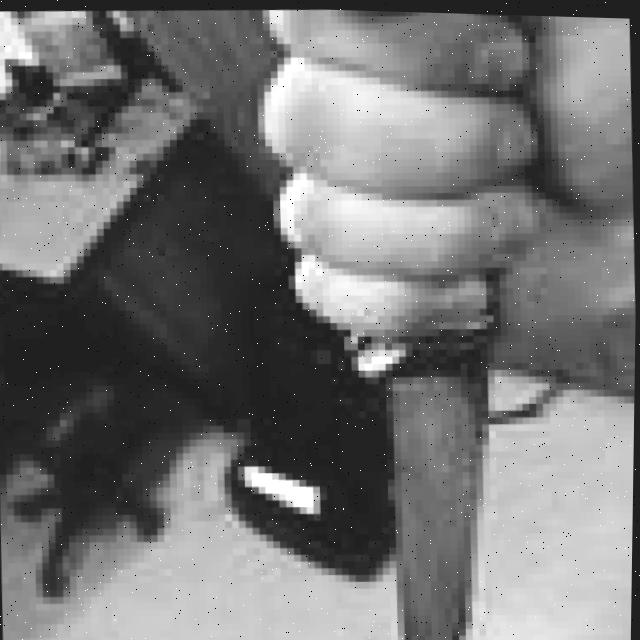knife: (367, 322, 525, 640)
